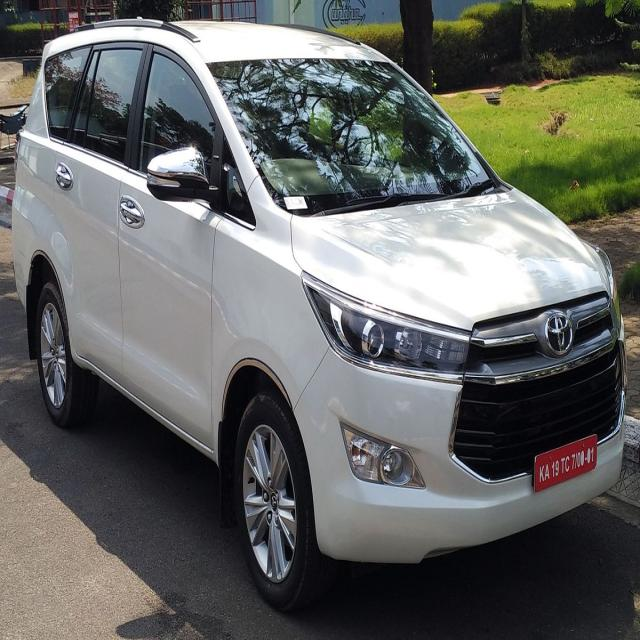light_vehicle: (9, 17, 629, 613)
